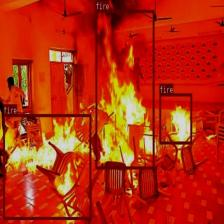fire: (3, 114, 91, 219), (96, 9, 154, 168), (159, 93, 192, 144)
